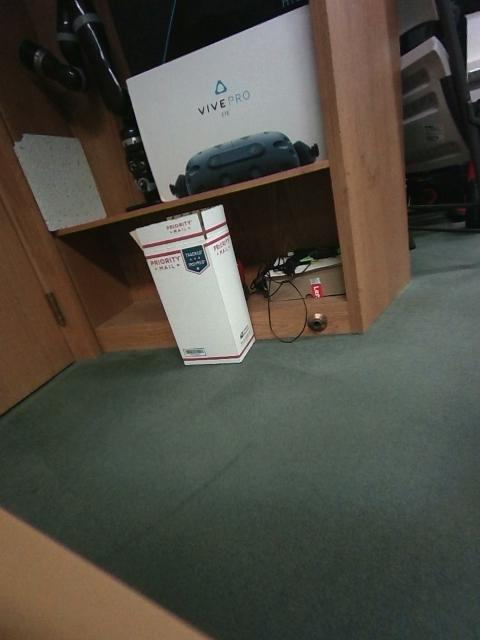block: (128, 345, 178, 384)
